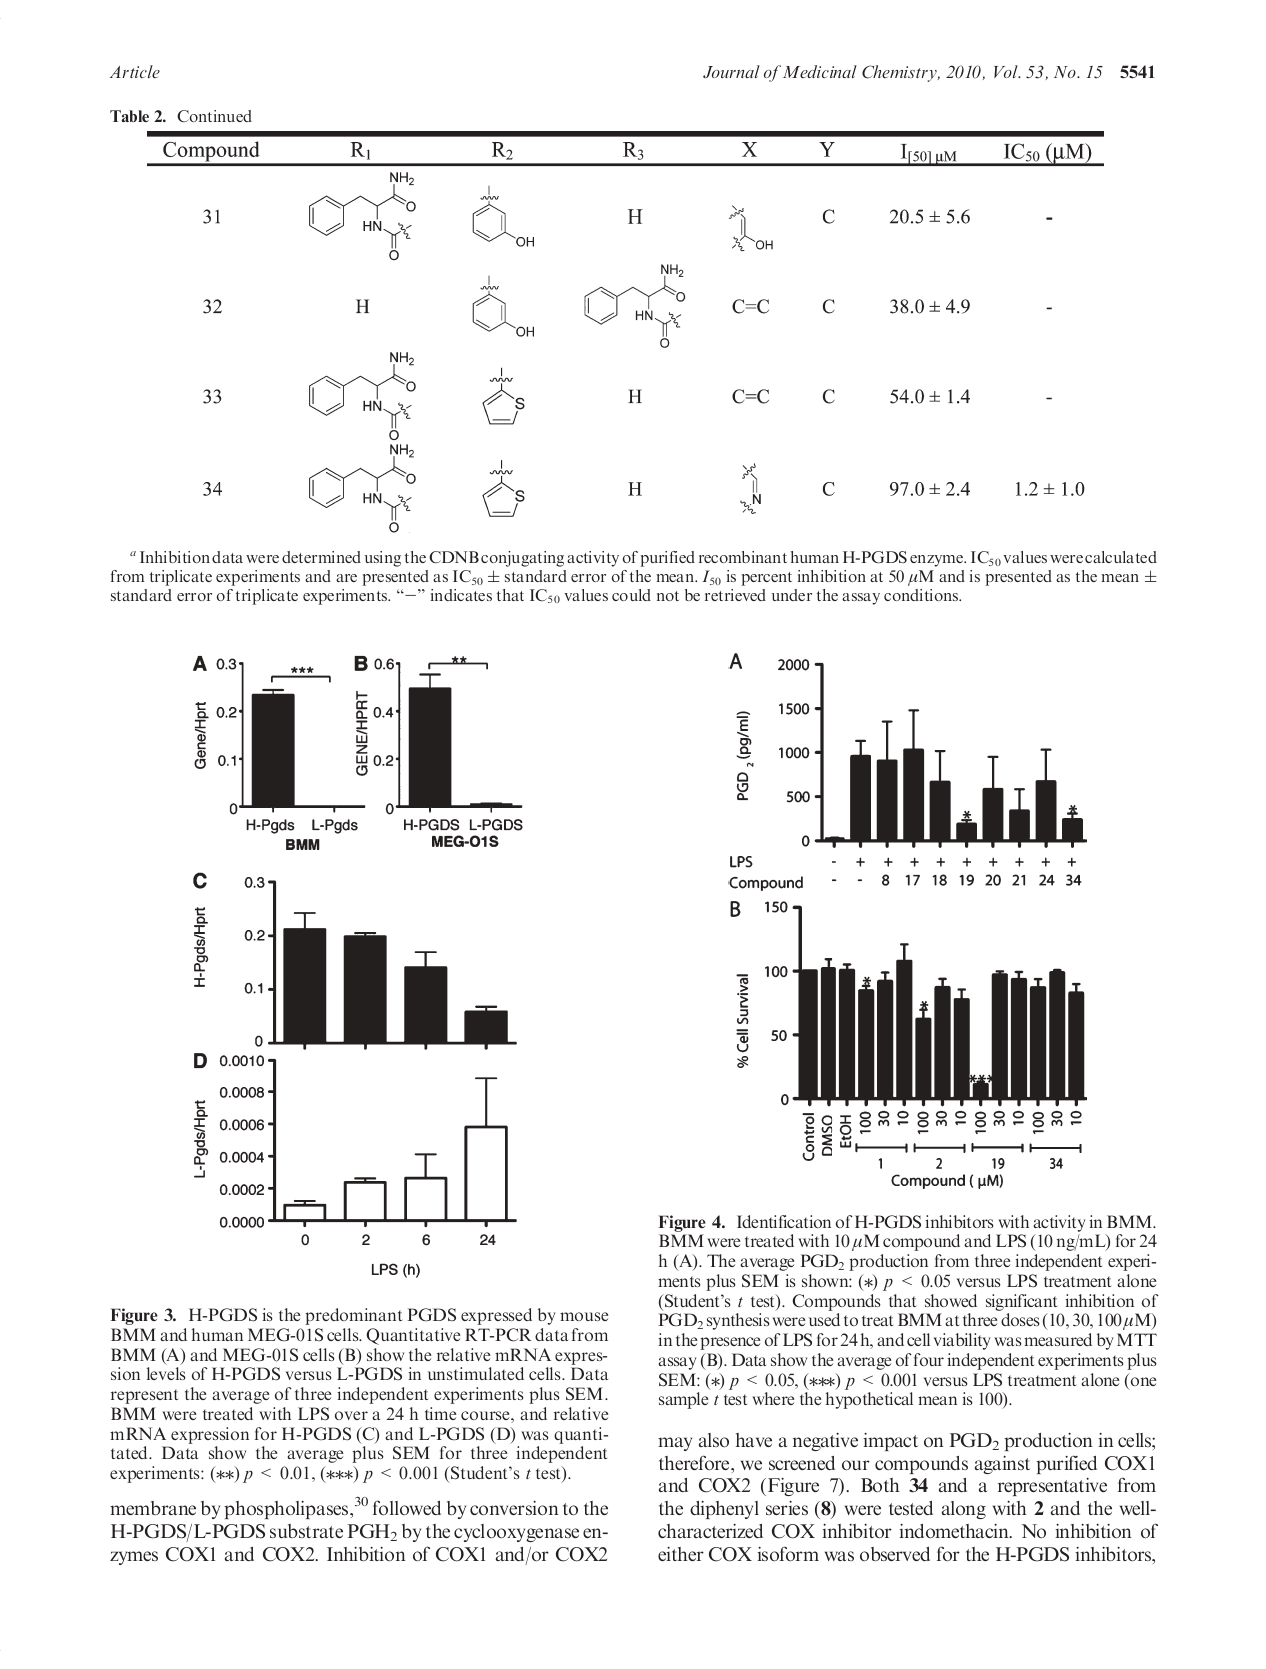exist_molecular: (303, 166, 418, 266), (305, 348, 424, 443), (580, 253, 692, 352), (305, 442, 415, 529), (467, 181, 539, 261), (469, 270, 543, 344), (481, 364, 535, 430), (723, 197, 777, 261), (481, 457, 531, 523), (735, 457, 769, 515)
